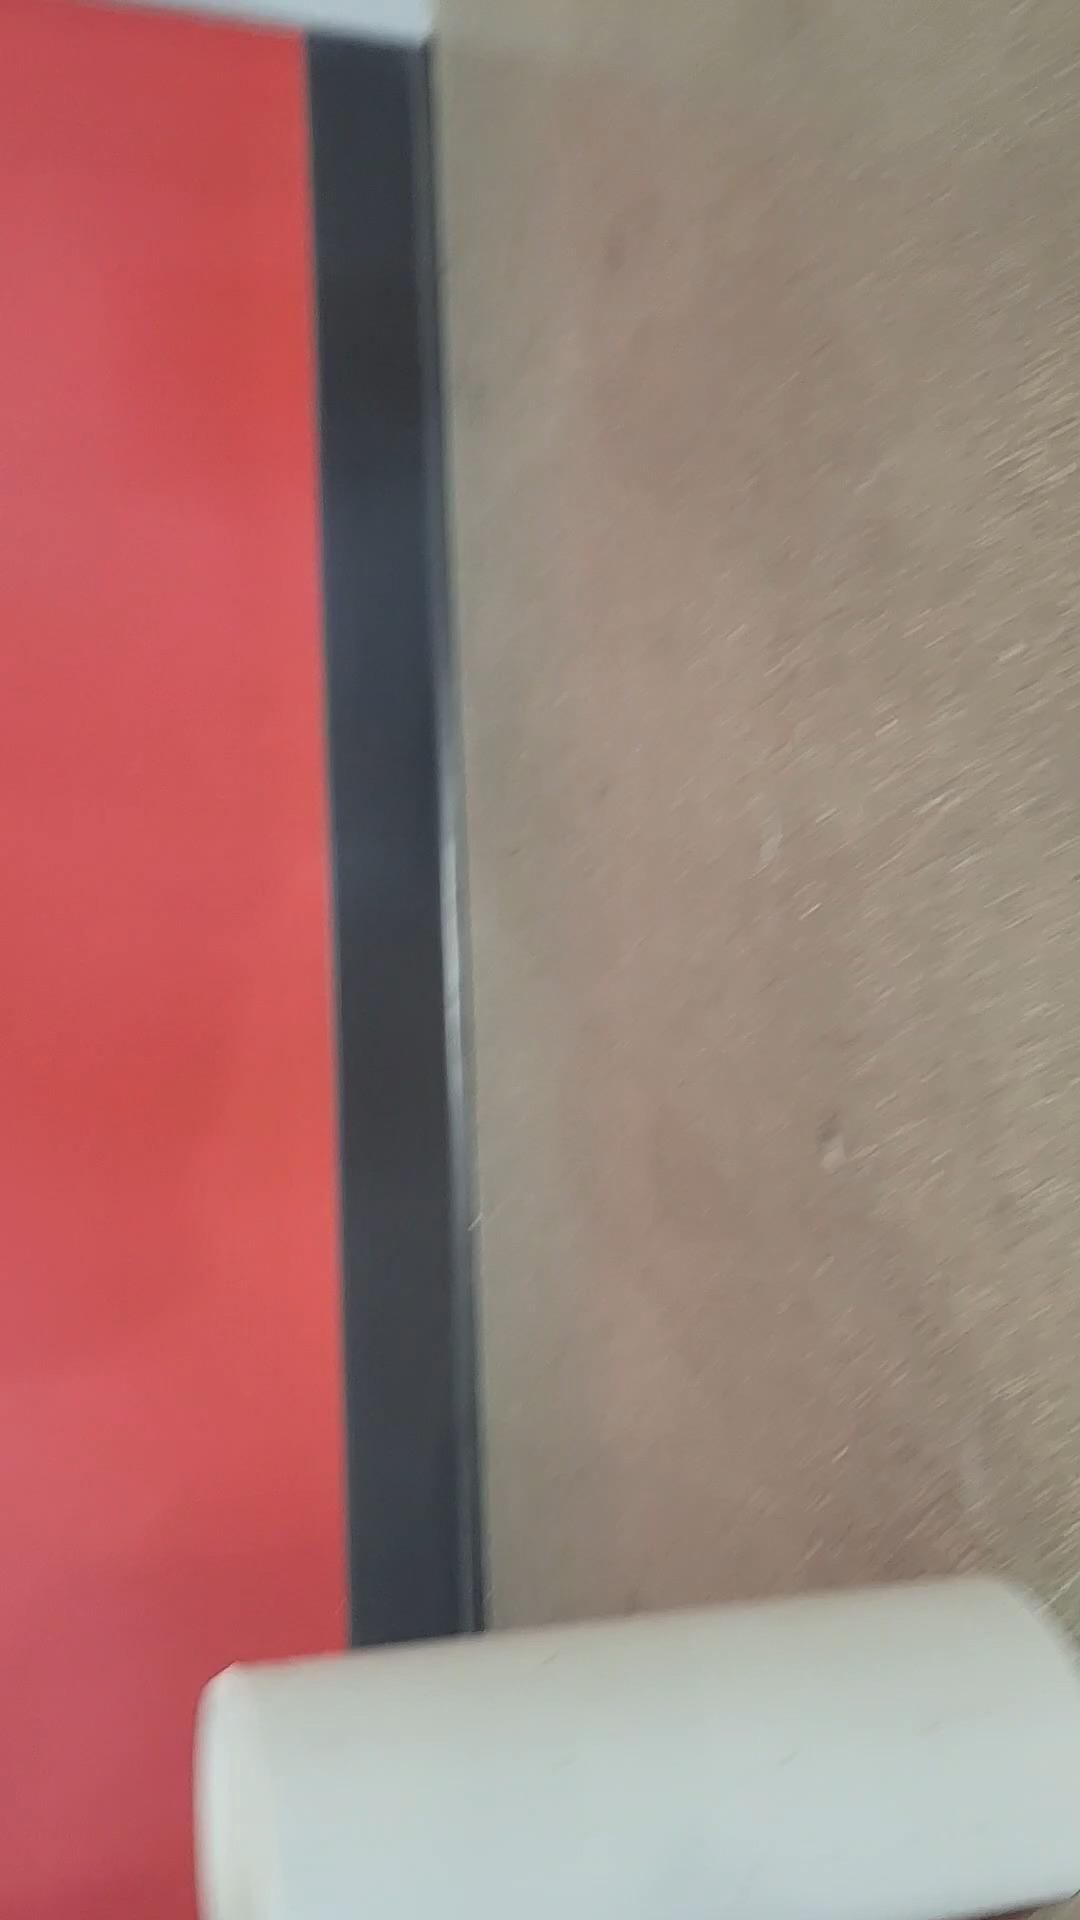coral: (194, 1571, 1080, 1920)
